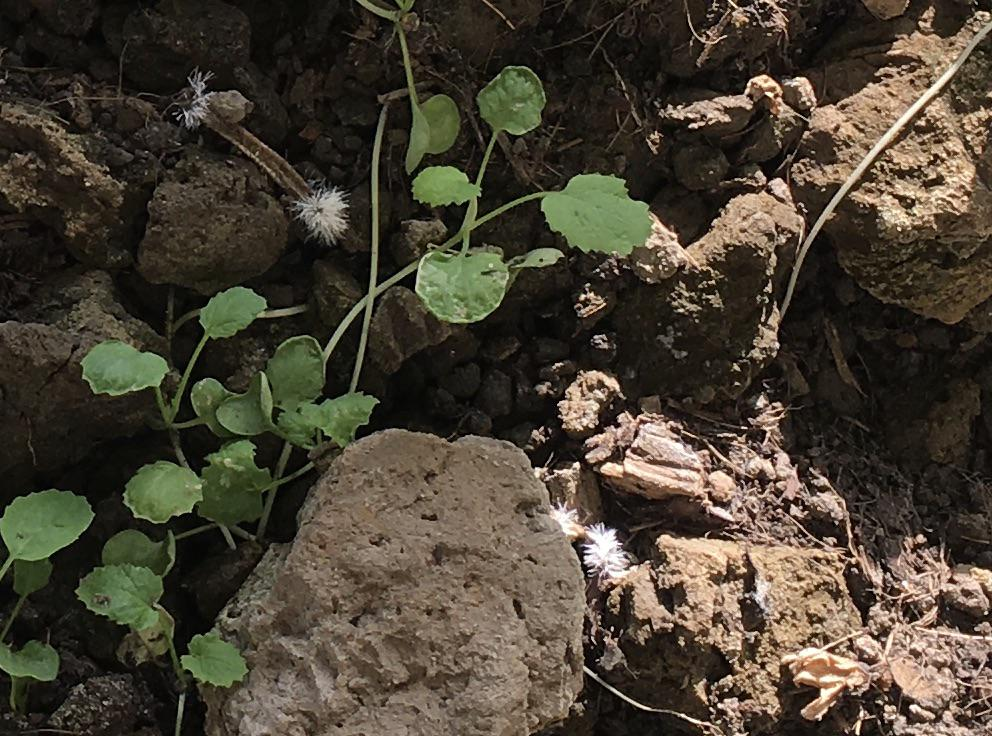block: (198, 428, 589, 736)
